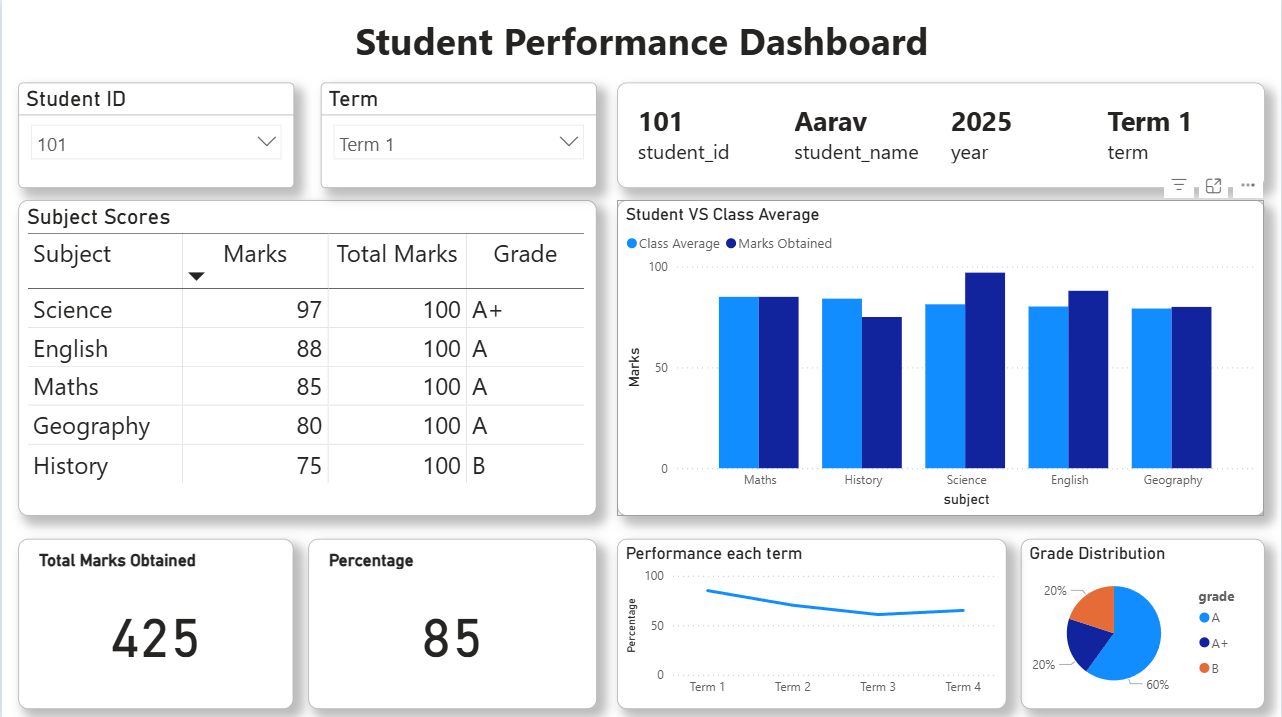

This screenshot's page, from the dashboard's own definition file:
{"tool":"powerbi","page":{"name":"Page 1","canvas":[1280,720],"ordinal":0},"visuals":[{"type":"textbox","box":[69.3,10.1,1142.7,60.6],"z":0},{"type":"slicer","title":"Student ID","fields":{"Values":["grade_project_db grades.student_id"]},"box":[16.2,82.1,276.2,105.7],"z":1000},{"type":"multiRowCard","fields":{"Values":["grade_project_db grades.student_id","grade_project_db grades.student_name","grade_project_db grades.year","grade_project_db grades.term"]},"box":[614.6,82.2,647.8,105.3],"z":2000},{"type":"tableEx","title":"Subject Scores","fields":{"Values":["grade_project_db grades.subject","grade_project_db grades.marks_obtained","grade_project_db grades.total_marks","grade_project_db grades.grade"]},"box":[15.9,200.5,578.5,316],"z":3000},{"type":"clusteredColumnChart","title":"Student VS Class Average","fields":{"Category":["grade_project_db grades.subject"],"Y":["grade_project_db grades.Class Average","grade_project_db grades.marks_obtained"]},"box":[614.6,200.5,647.8,316],"z":4000},{"type":"card","title":"Total Marks Obtained ","fields":{"Values":["grade_project_db grades.marks_obtained"]},"box":[15.9,538.2,275.6,170.2],"z":5000},{"type":"card","title":"Percentage","fields":{"Values":["select","grade_project_db grades.Percentage"]},"box":[305.9,538.2,288.6,170.2],"z":6000},{"type":"pieChart","title":"Grade Distribution","fields":{"Category":["grade_project_db grades.grade"],"Y":["grade_project_db grades.student_id"]},"box":[1018.6,538.2,243.8,170.2],"z":7000},{"type":"lineChart","title":"Performance each term","fields":{"Y":["grade_project_db grades.Percentage"],"Category":["TermOrderTable.Term"]},"box":[614.6,538.2,389.5,170.2],"z":8000},{"type":"slicer","title":"Term","fields":{"Values":["grade_project_db grades.term"]},"box":[319,82.2,276.1,105.5],"z":8001}]}

Visuals, with their boxes in screenshot pixels (x1, y1, x2, y2), scaled from the page's 1280x720 canvas onto the 1282x717 screenshot:
textbox: bbox=(69, 10, 1214, 70)
"Student ID" slicer: bbox=(16, 82, 293, 187)
multiRowCard - grade_project_db grades.student_id x grade_project_db grades.student_name: bbox=(616, 82, 1264, 187)
"Subject Scores" tableEx: bbox=(16, 200, 595, 514)
"Student VS Class Average" clusteredColumnChart: bbox=(616, 200, 1264, 514)
"Total Marks Obtained " card: bbox=(16, 536, 292, 705)
"Percentage" card: bbox=(306, 536, 595, 705)
"Grade Distribution" pieChart: bbox=(1020, 536, 1264, 705)
"Performance each term" lineChart: bbox=(616, 536, 1006, 705)
"Term" slicer: bbox=(319, 82, 596, 187)
